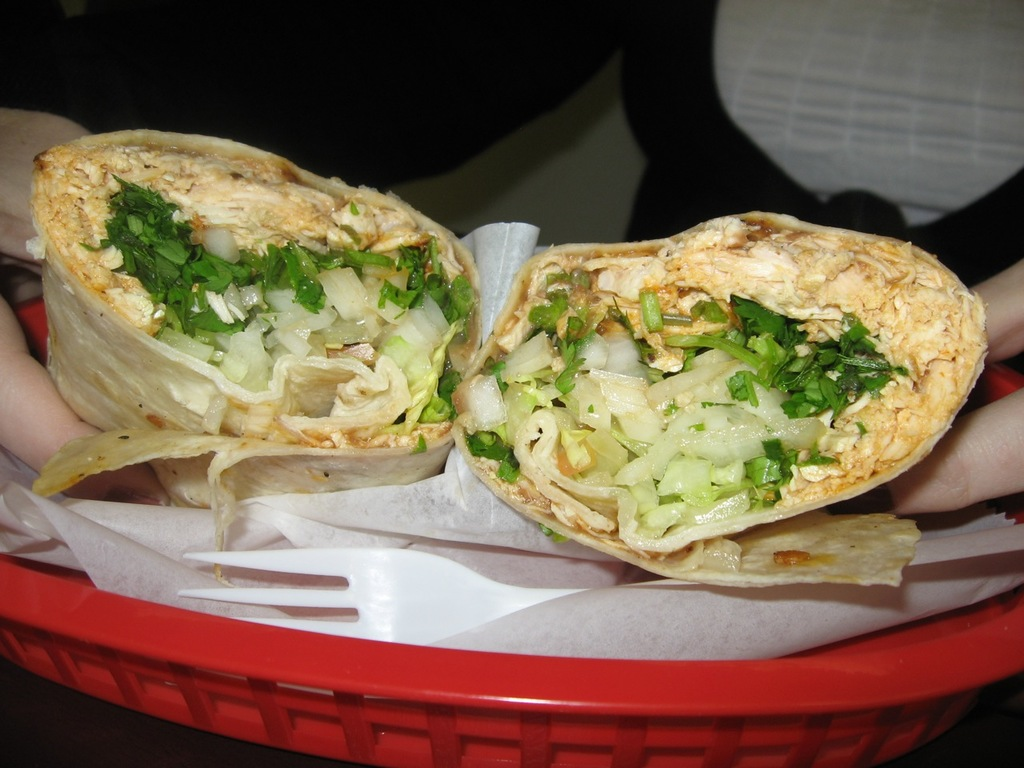taco: (444, 210, 990, 588), (36, 126, 482, 584)
